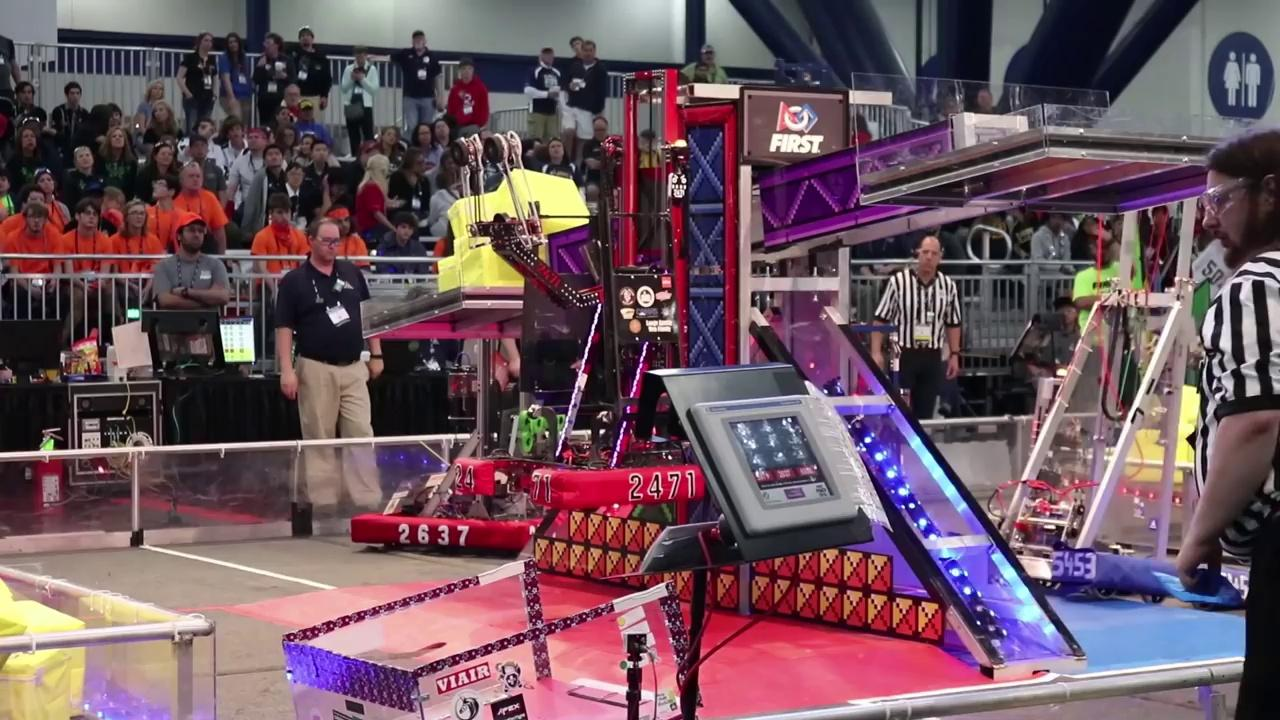robot: (455, 205, 706, 510), (1007, 272, 1196, 603), (350, 472, 543, 553)
